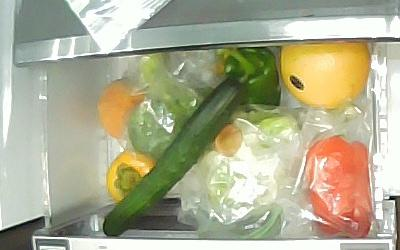broccoli_vinyl: (127, 56, 215, 162)
cucumber: (102, 72, 251, 235)
grapefruit: (280, 41, 370, 110)
lettuce_vinyl: (200, 110, 302, 203)
paprika: (221, 47, 281, 123)
paprika_vinyl: (306, 135, 373, 239)
peach_vinyl: (96, 79, 145, 139)
persimmon: (106, 150, 157, 200)
